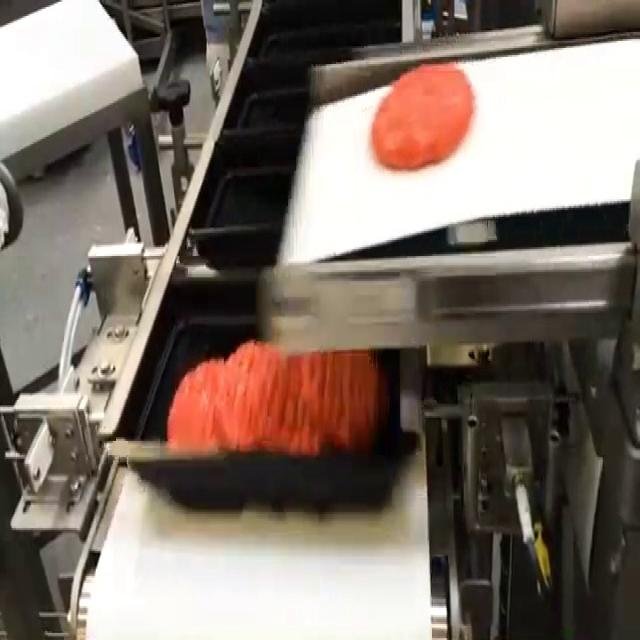4-hamburguer: (166, 341, 388, 453)
